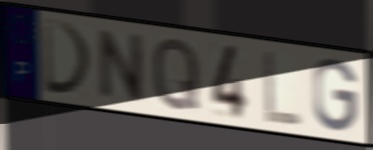4: (208, 41, 250, 122)
D: (40, 16, 95, 98)
G: (311, 57, 360, 134)
L: (261, 47, 304, 129)
N: (97, 26, 147, 105)
Q: (151, 35, 202, 114)
